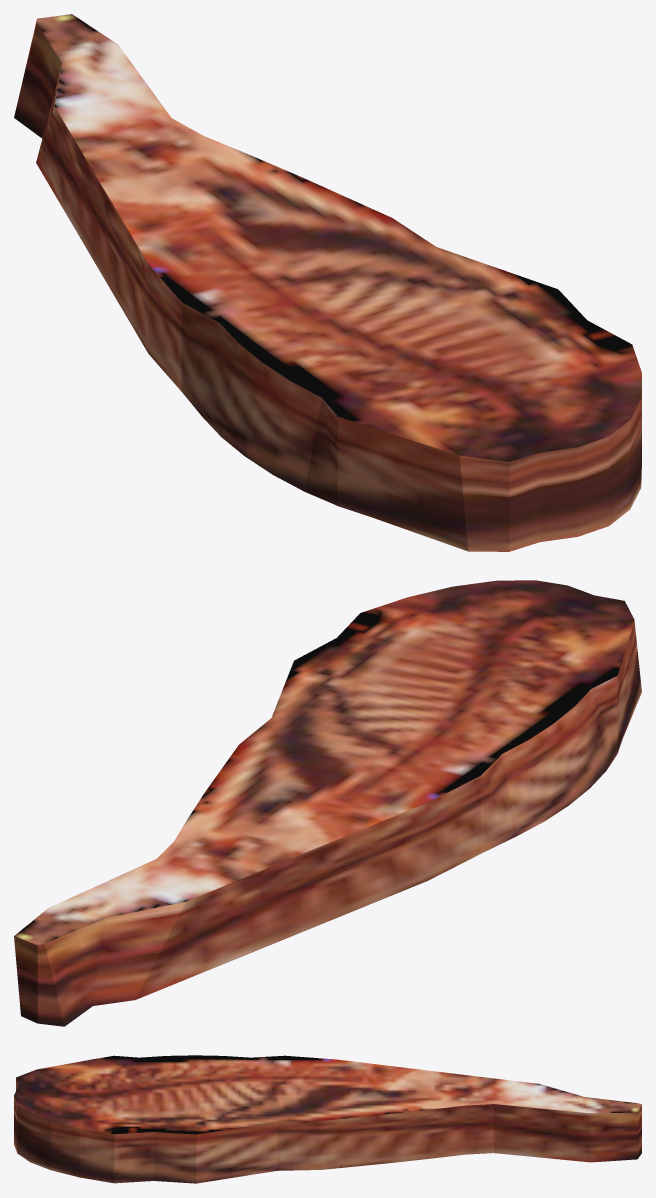
Rendered from meat3.glb.
The picture shows the model from 3 angles, top to bottom: view 1: azimuth 30°, elevation 25°; view 2: azimuth 150°, elevation 25°; view 3: azimuth 270°, elevation 25°; orthographic projection. The views are drawn at different scales.
Visible parts, largest first — view 1: Cube; view 2: Cube; view 3: Cube.
Part boxes in pixels (left/top/right/bottom): Cube: left=14, top=14, right=641, bottom=551; Cube: left=14, top=580, right=641, bottom=1026; Cube: left=14, top=1055, right=641, bottom=1183.
Size of the model in its own units: 0.8725 by 0.2378 by 2.76.
Materials: 1 (1 with a texture image).
